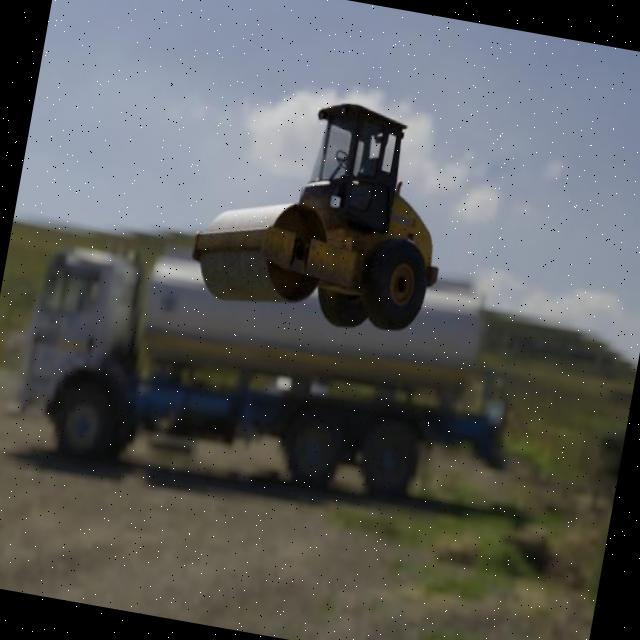Roller: (182, 79, 464, 342)
